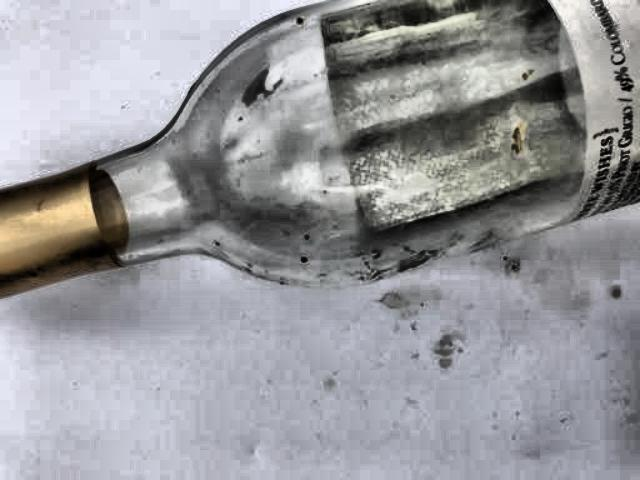Bottles: (0, 0, 640, 309)
